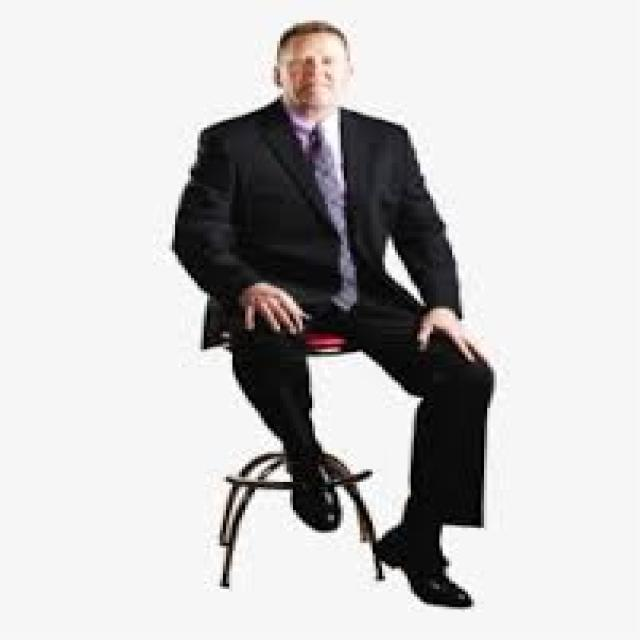nonfall: (130, 0, 544, 623)
